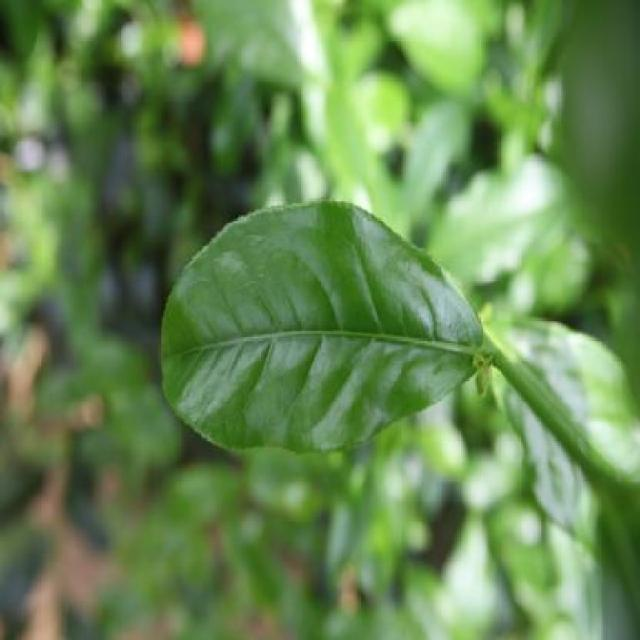Tea leaf: (145, 190, 489, 464)
